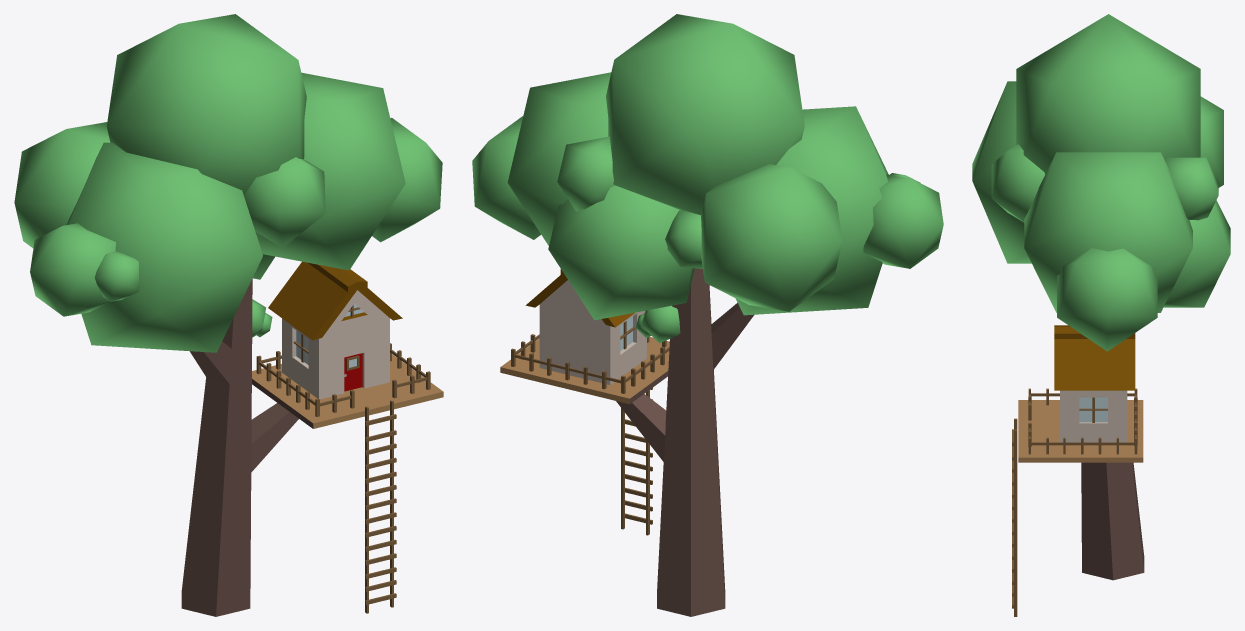
File: Treehouse.fbx
3 views of the same model, side by side, from view 1: azimuth 30°, elevation 25°; view 2: azimuth 150°, elevation 25°; view 3: azimuth 270°, elevation 25° (orthographic). The views are drawn at different scales.
Parts seen in each view (by area): view 1: Treehouse; view 2: Treehouse; view 3: Treehouse.
Part boxes in pixels (<box>): Treehouse: <box>14,14,443,616</box>; Treehouse: <box>472,14,943,616</box>; Treehouse: <box>972,14,1230,616</box>.
Bounding box in the file's own units: 15.04 × 19.06 × 8.36.
